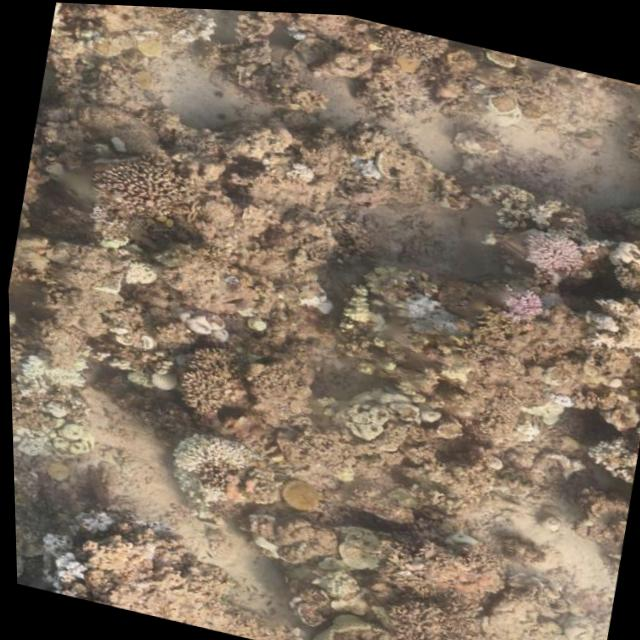Bleached Coral: (156, 419, 260, 484), (510, 215, 591, 279), (10, 348, 85, 411), (396, 286, 469, 345), (28, 530, 88, 587), (53, 497, 126, 541)
